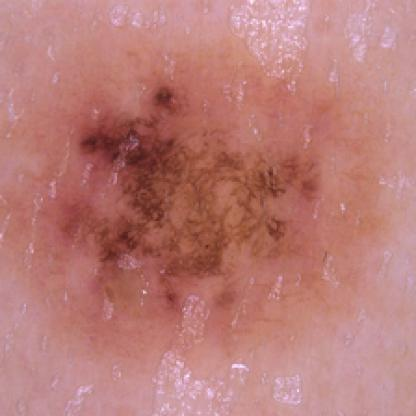benign: (63, 83, 323, 314)
